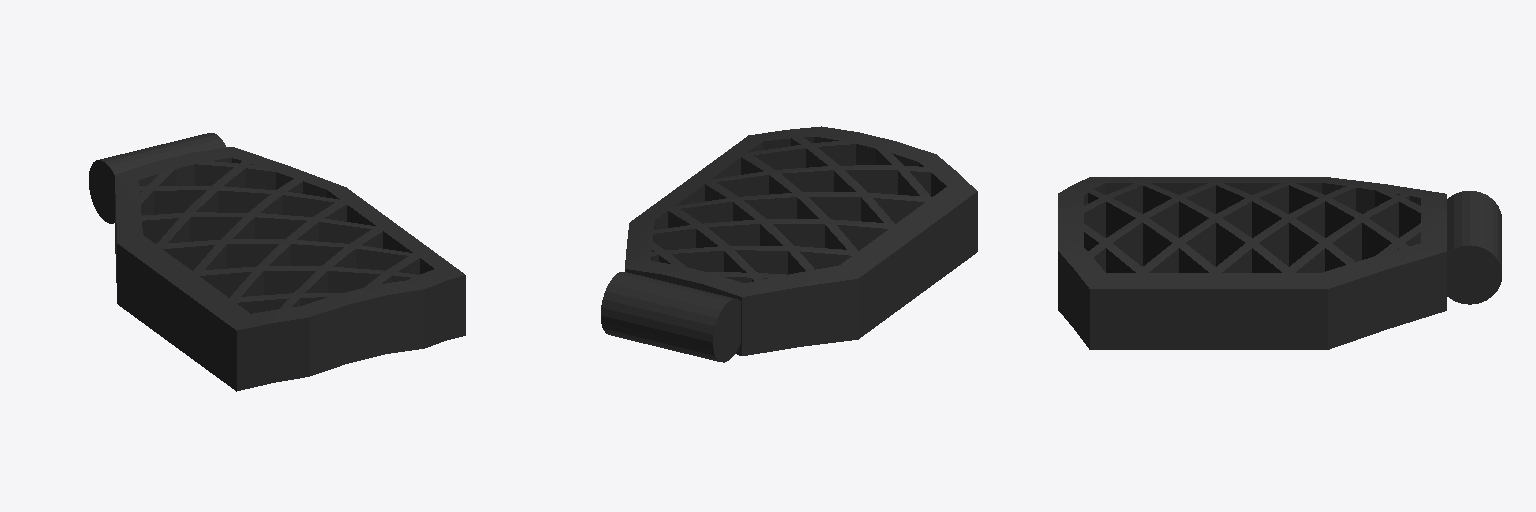
Rendered from gridfin.obj.
The picture shows the model from 3 angles: view 1: azimuth 30°, elevation 25°; view 2: azimuth 150°, elevation 25°; view 3: azimuth 270°, elevation 25°; orthographic projection.
Parts seen in each view (by area): view 1: Falcon_9_Grid_Fin; view 2: Falcon_9_Grid_Fin; view 3: Falcon_9_Grid_Fin.
Boxes of the visible parts, x1,y1,x2,y2 form: Falcon_9_Grid_Fin: [89, 133, 465, 391]; Falcon_9_Grid_Fin: [601, 126, 977, 362]; Falcon_9_Grid_Fin: [1058, 177, 1501, 349].
Bounding box in the file's own units: 0.5177 × 0.164 × 0.8704.